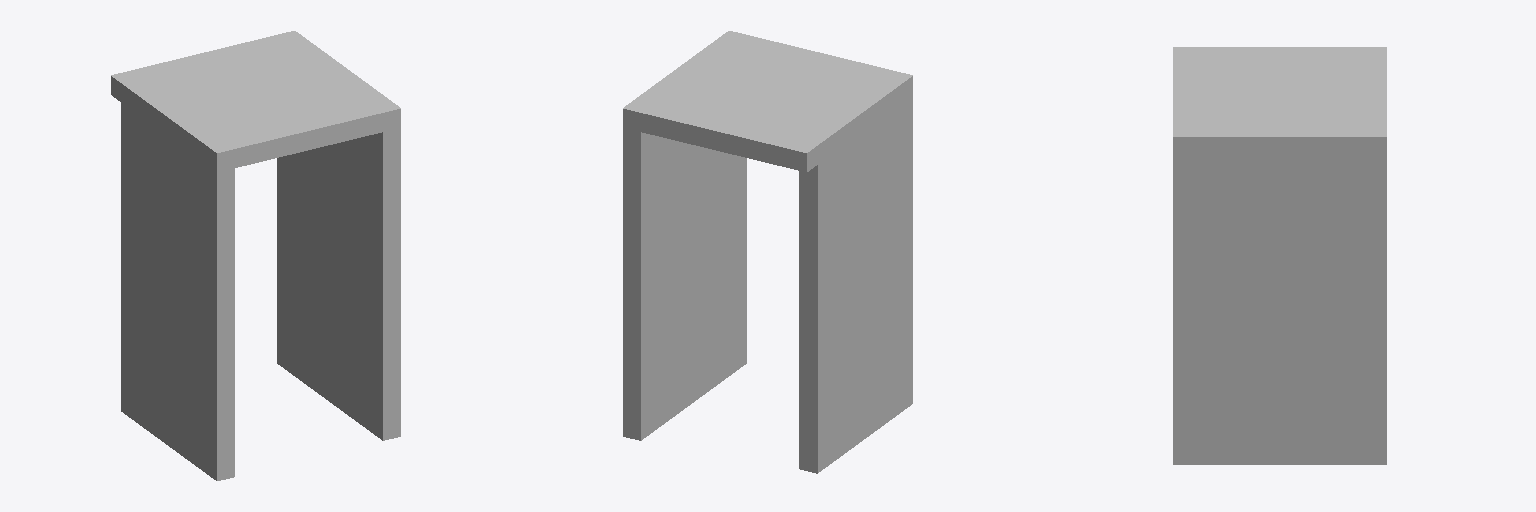
Rendered from Bowling no details-6.obj.
3 renders of one model, left to right at view 1: azimuth 30°, elevation 25°; view 2: azimuth 150°, elevation 25°; view 3: azimuth 270°, elevation 25°, orthographic.
Parts seen in each view (by area): view 1: Bowling no details-6; view 2: Bowling no details-6; view 3: Bowling no details-6.
Part boxes in pixels (bbox=[...]): Bowling no details-6: bbox=[111, 31, 400, 480]; Bowling no details-6: bbox=[623, 31, 912, 473]; Bowling no details-6: bbox=[1173, 47, 1386, 464].
Bounding box in the file's own units: 10 × 17 × 10.